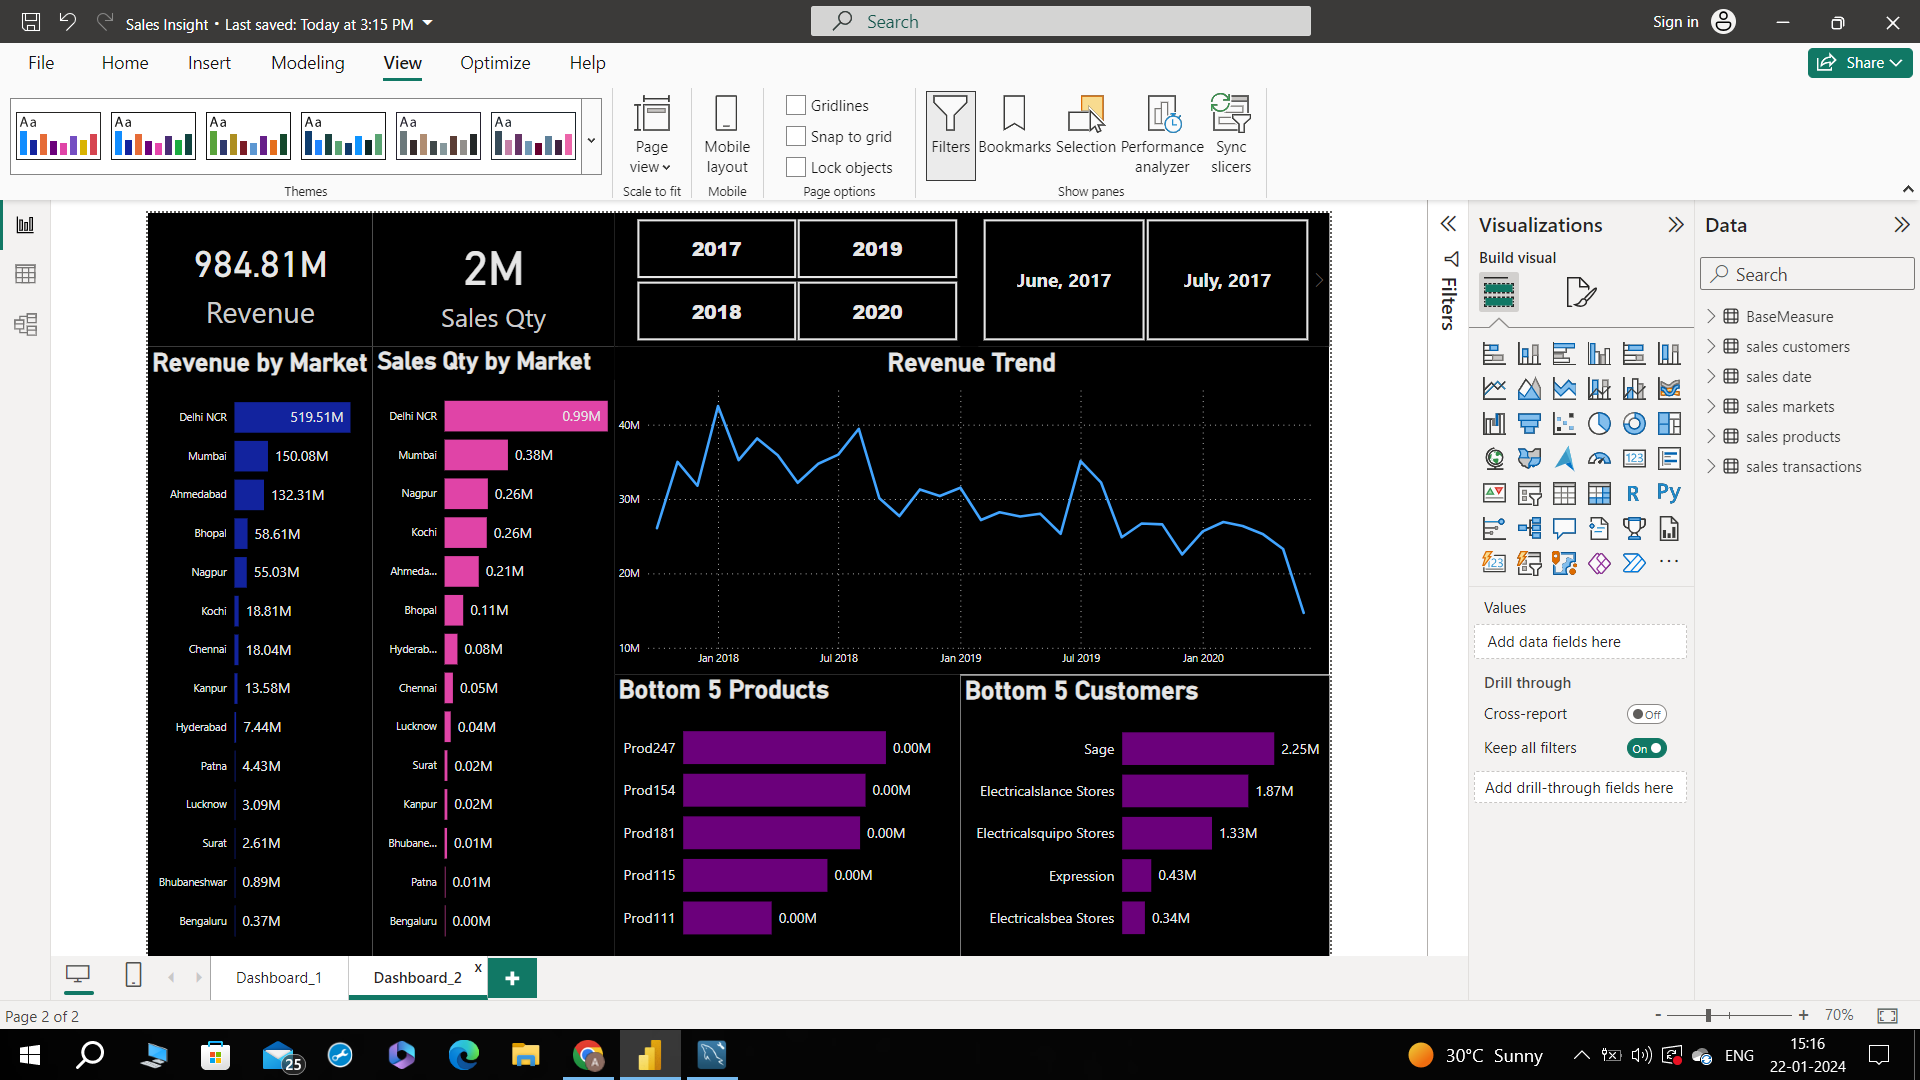

The dashboard page shown, as its layout file describes it:
{"tool":"powerbi","page":{"name":"Dashboard_2","canvas":[1350,850],"ordinal":1},"visuals":[{"type":"card","fields":{"Values":["BaseMeasure.Revenue"]},"box":[0,0,257.1,152.9],"z":0},{"type":"card","fields":{"Values":["BaseMeasure.Sales Qty"]},"box":[257.1,0,275.7,152.9],"z":1},{"type":"barChart","title":"Revenue by Market","fields":{"Y":["BaseMeasure.Revenue"],"Category":["sales markets.markets_name"]},"box":[0,152.9,257.1,697.1],"z":2},{"type":"barChart","title":"Sales Qty by Market","fields":{"Y":["BaseMeasure.Sales Qty"],"Category":["sales markets.markets_name"]},"box":[257.1,152.9,275.7,697.1],"z":3},{"type":"slicer","title":"Year","fields":{"Values":["sales date.year"]},"box":[532.9,0,415.7,152.9],"z":4},{"type":"slicer","fields":{"Values":["sales date.cy_date"]},"box":[928.6,0,421.4,152.9],"z":5},{"type":"lineChart","title":"Revenue Trend","fields":{"Y":["BaseMeasure.Revenue"],"Category":["sales date.cy_date"]},"box":[532.9,152.9,817.1,374.3],"z":6},{"type":"barChart","title":"Bottom 5 Products","fields":{"Y":["BaseMeasure.Revenue"],"Category":["sales products.product_code"]},"box":[533.3,526.7,395,323.3],"z":7},{"type":"barChart","title":"Bottom 5 Customers","fields":{"Y":["BaseMeasure.Revenue"],"Category":["sales customers.custmer_name"]},"box":[928.6,528.6,421.4,321.4],"z":8}]}

Visuals, with their boxes on the page's 1350x850 design canvas (x1, y1, x2, y2). These are canvas units, not pixel positions in the 1920x1080 screenshot, which may show the page scaled, cropped or inside an application window:
card - BaseMeasure.Revenue: 0:0:257:153
card - BaseMeasure.Sales Qty: 257:0:533:153
"Revenue by Market" barChart: 0:153:257:850
"Sales Qty by Market" barChart: 257:153:533:850
"Year" slicer: 533:0:949:153
slicer - sales date.cy_date: 929:0:1350:153
"Revenue Trend" lineChart: 533:153:1350:527
"Bottom 5 Products" barChart: 533:527:928:850
"Bottom 5 Customers" barChart: 929:529:1350:850
